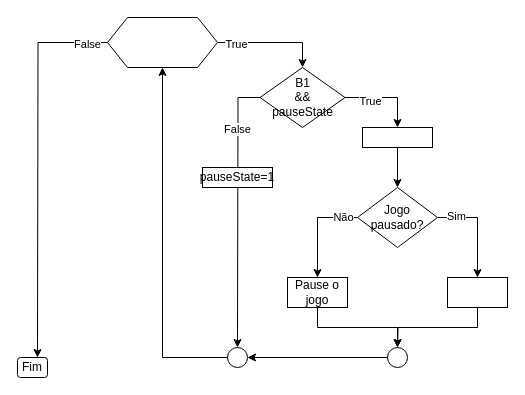
This 525x395 diagram has some shape labels left out. Each missing label, with the centre of its shape:
"pauseState=0" goes at point 397,137.
"Saia do pause" goes at point 477,292.
"While(1)" goes at point 162,42.
